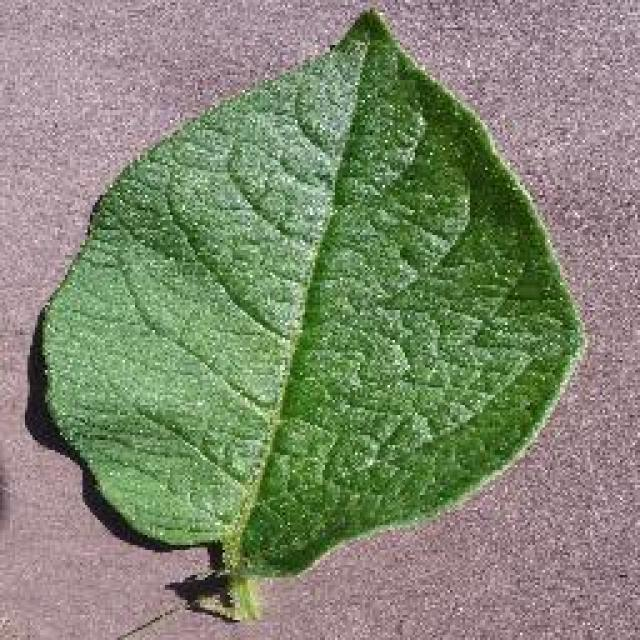Potato: (35, 5, 587, 620)
